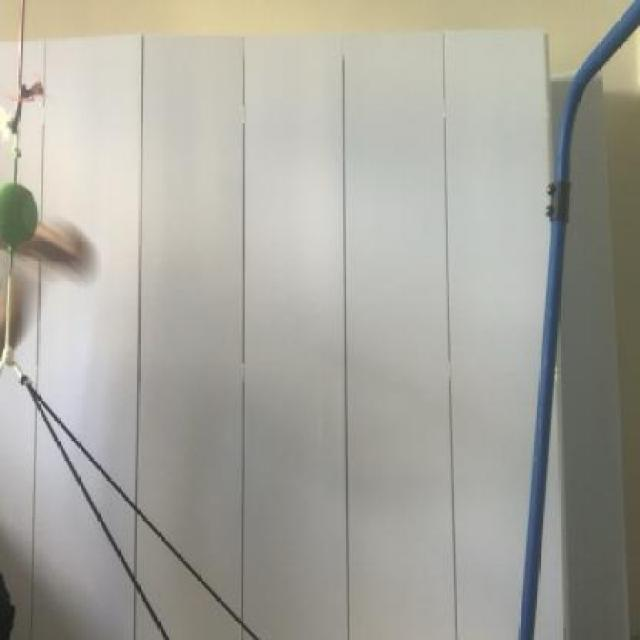baseball: (0, 159, 48, 258)
